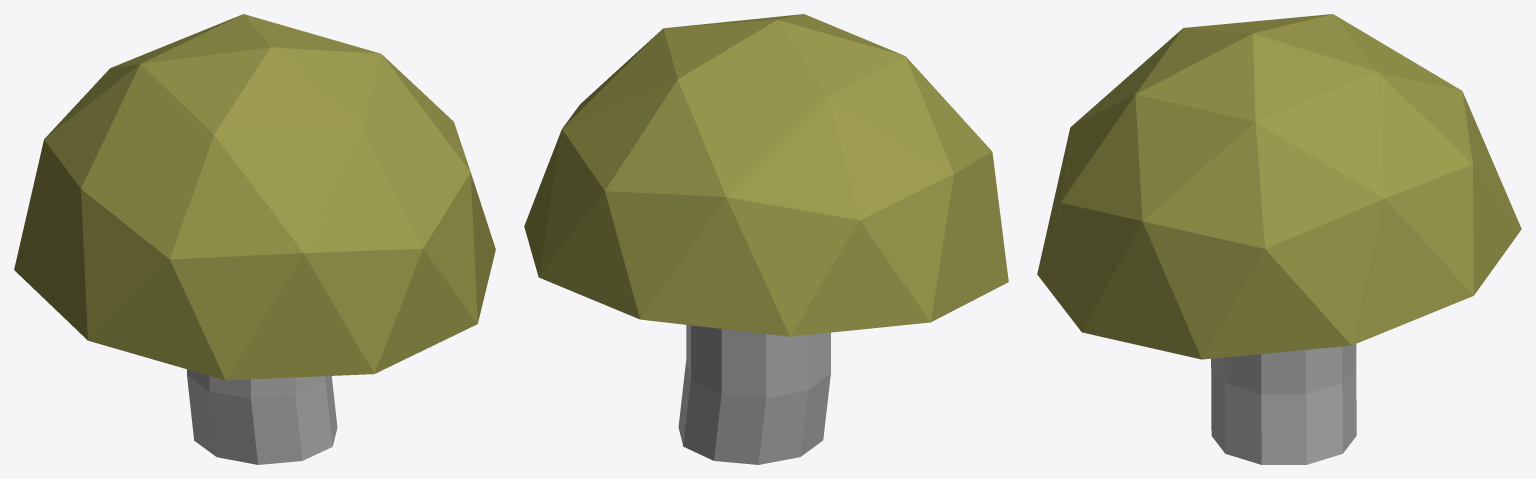
The model's file is JamurKuning.fbx.
3 views of the same model, side by side, from view 1: azimuth 30°, elevation 25°; view 2: azimuth 150°, elevation 25°; view 3: azimuth 270°, elevation 25° (orthographic).
Parts seen in each view (by area): view 1: Mushroom_1b.001; view 2: Mushroom_1b.001; view 3: Mushroom_1b.001.
Part boxes in pixels (box(x1,y1,x2,y2)): Mushroom_1b.001: box(14, 14, 495, 464); Mushroom_1b.001: box(524, 14, 1008, 464); Mushroom_1b.001: box(1037, 14, 1521, 464).
Bounding box in the file's own units: 37.53 × 35.33 × 39.06.
